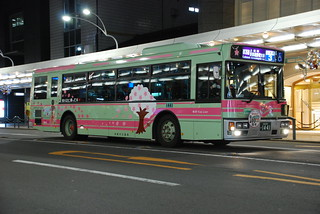bus: (28, 43, 289, 147)
